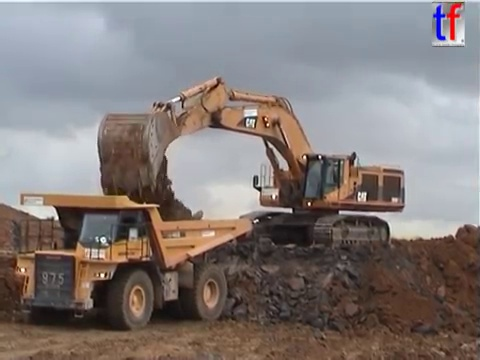excavator: (94, 73, 408, 255)
truck: (8, 191, 255, 332)
